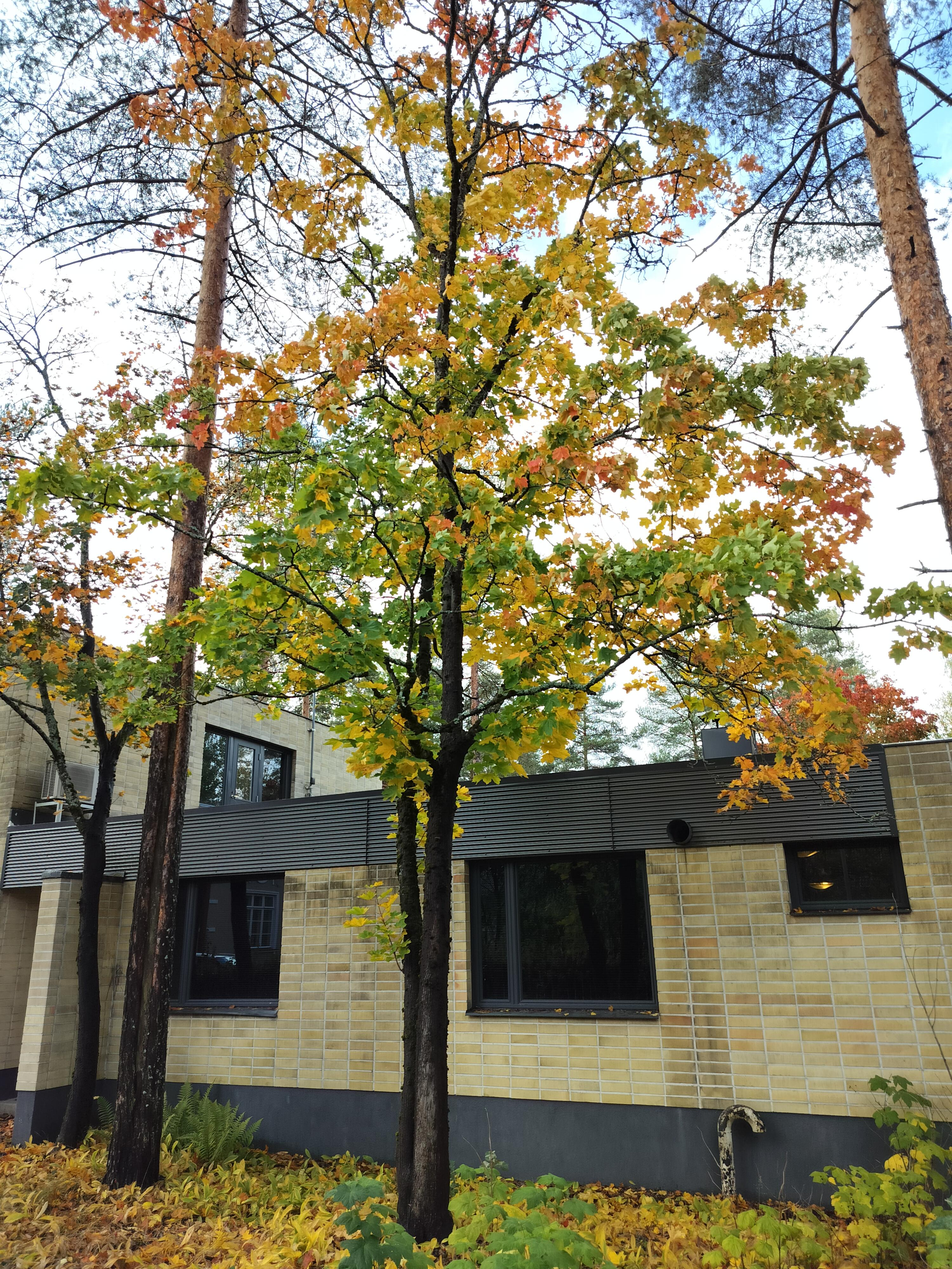Maple: (215, 80, 861, 1236), (214, 157, 851, 732)
